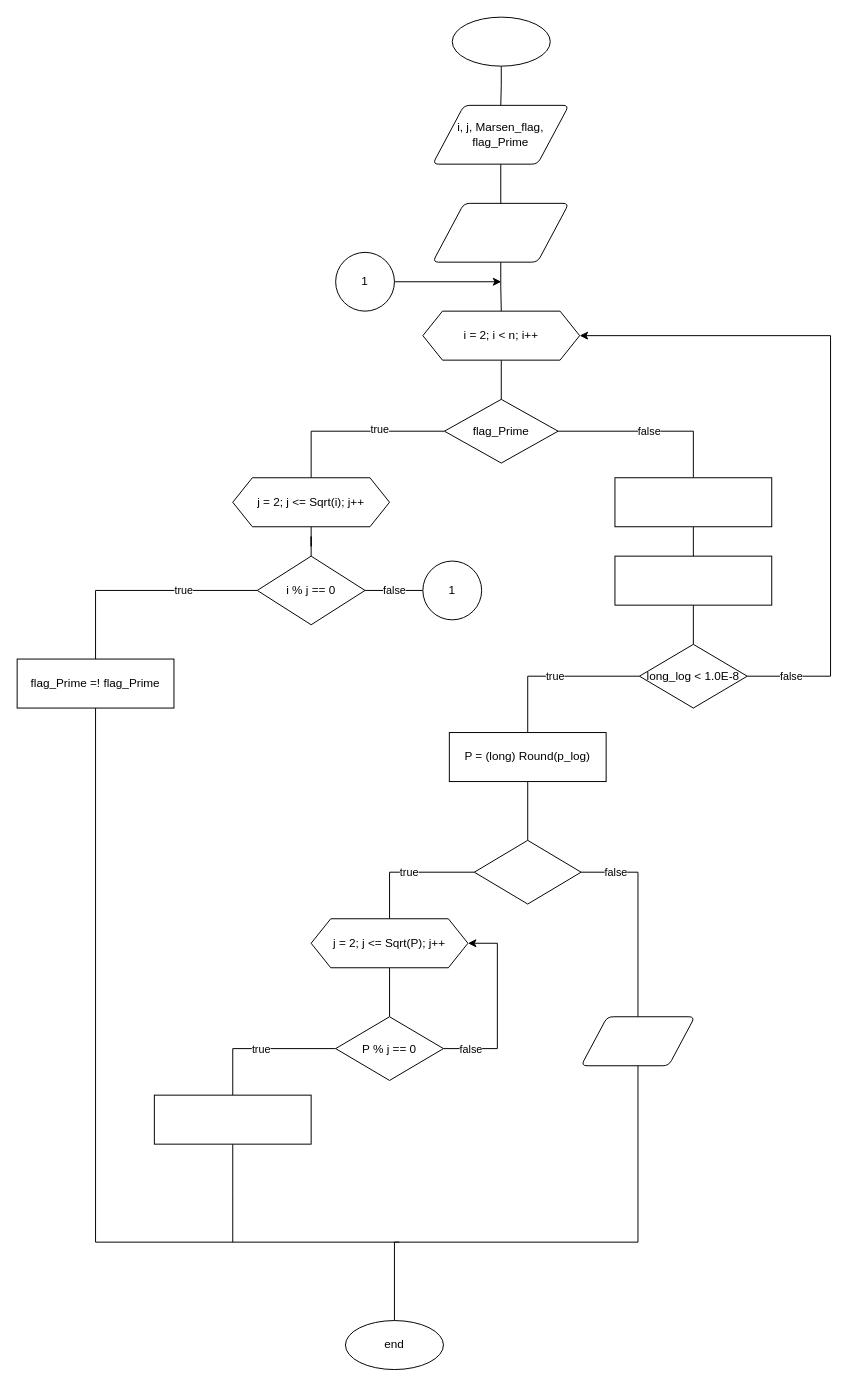
Image size: 856x1387. Some labels were removed from this diagram. Here are the shapes that lost their labels. From the top down, the box of each, then its label:
(451, 16, 550, 66): start
(432, 202, 569, 262): n = 1000000
(614, 477, 772, 527): p_log = log( i + 1, 2)
(614, 555, 772, 605): long_log = Abs( Round( p_log) - p_log)
(473, 839, 581, 904): Marsen_flag
(580, 1016, 695, 1066): write i
(153, 1094, 311, 1144): Marsen_flag =! Marsen_flag
